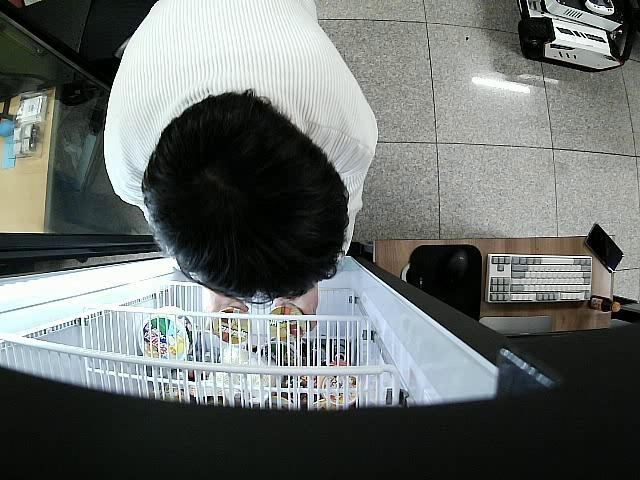04_chapagetti_S: (213, 304, 255, 344), (267, 305, 307, 345)
